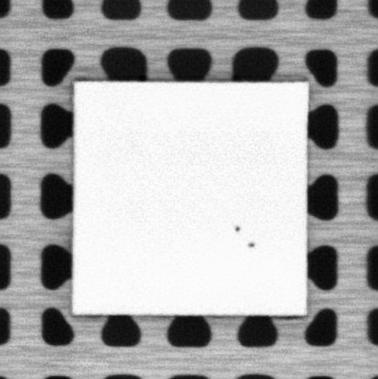DIE_INK: (246, 239, 255, 249), (233, 224, 243, 232)
